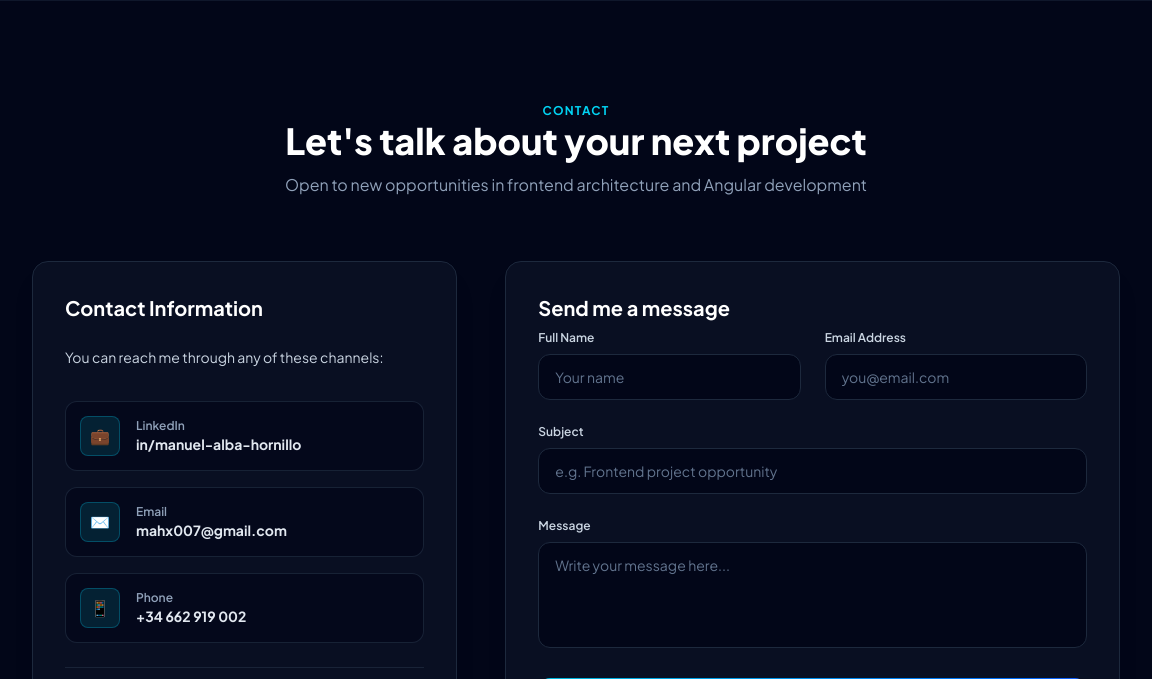
ContactComponent › Form validation › should show the invalid email message when email format is wrong
This screenshot has width=1152, height=679.
In the field named "name": (669, 377) left=538, top=354, right=801, bottom=400, type "Manuel"
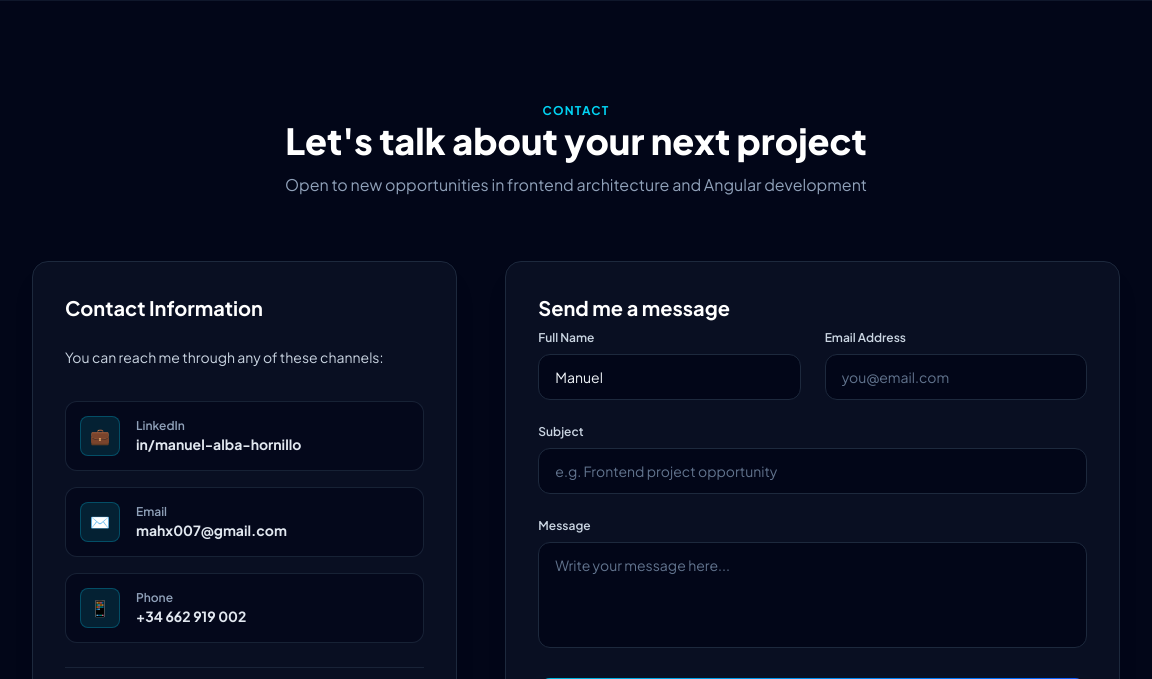
In the field named "email": (956, 377) left=825, top=354, right=1087, bottom=400, type "not-an-email"
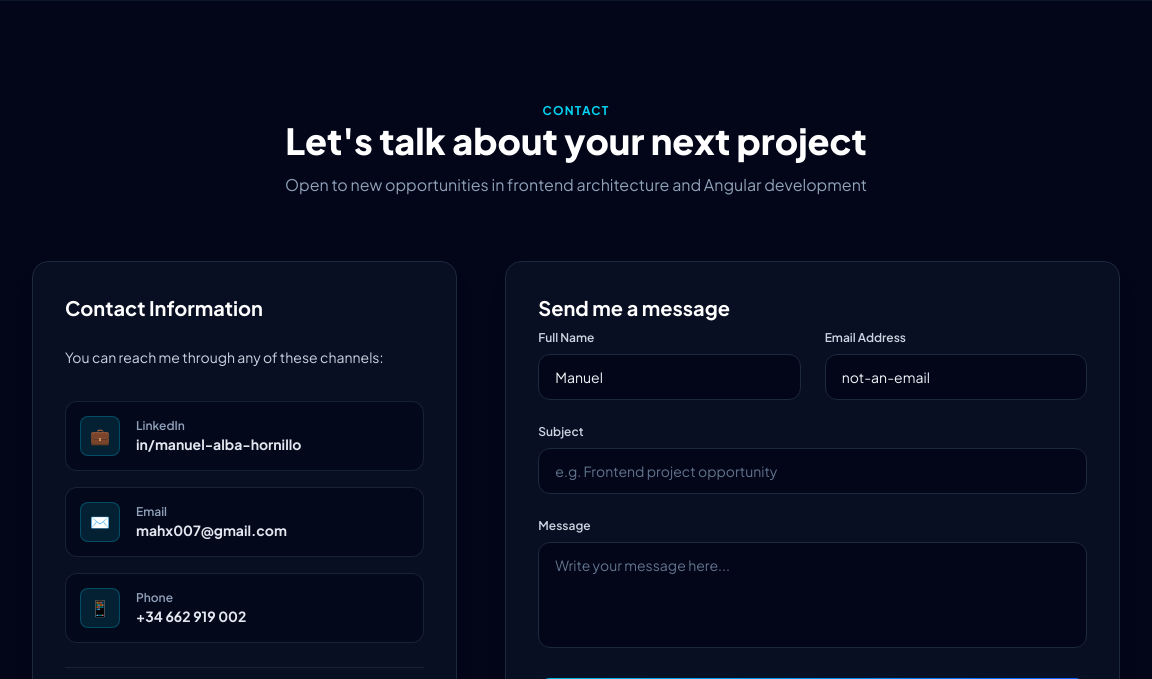
In the field named "subject": (813, 471) left=538, top=448, right=1087, bottom=494, type "Asunto de prueba"
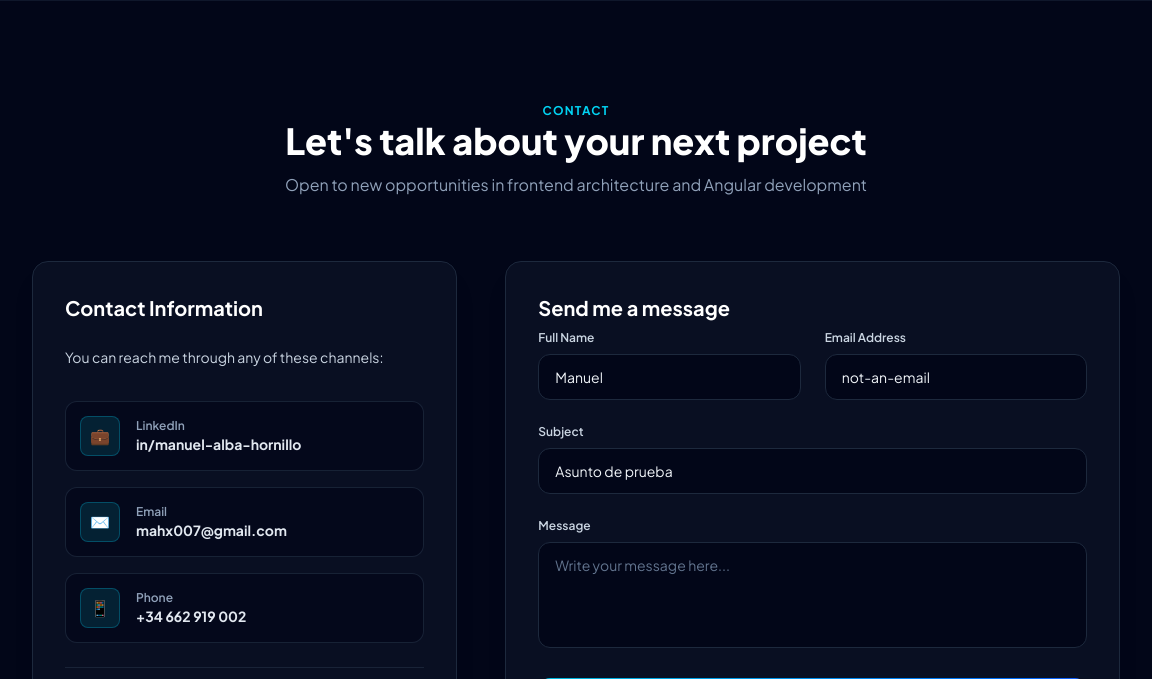
In the text box named "message": (813, 595) left=538, top=542, right=1087, bottom=648, type "Mensaje de prueba"
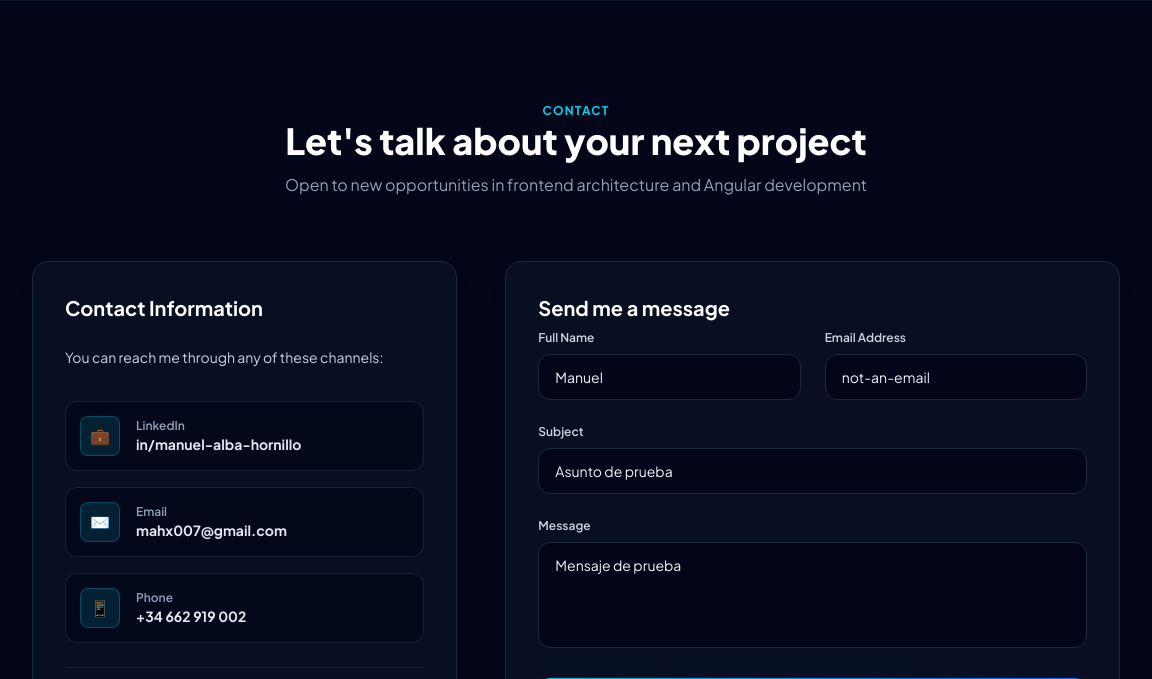
Leave the field named "email" below "Email Address", box left=825, top=354, right=1087, bottom=400
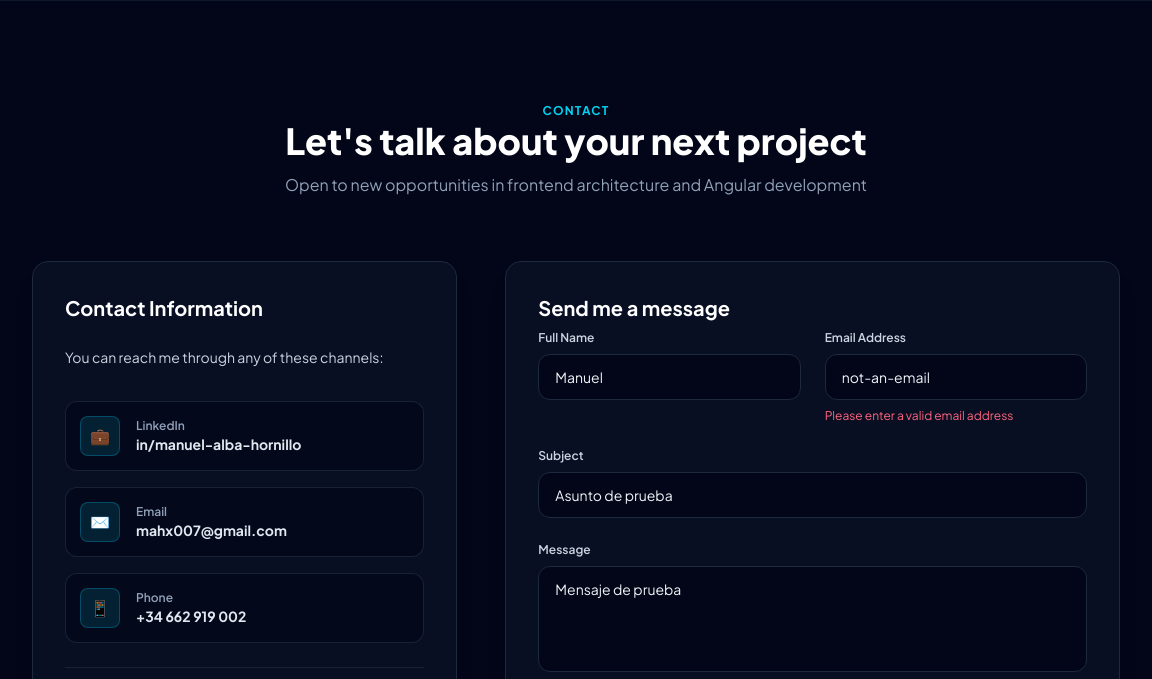
Result: the text "Please enter a valid email address" is shown at left=825, top=408, right=1014, bottom=423
